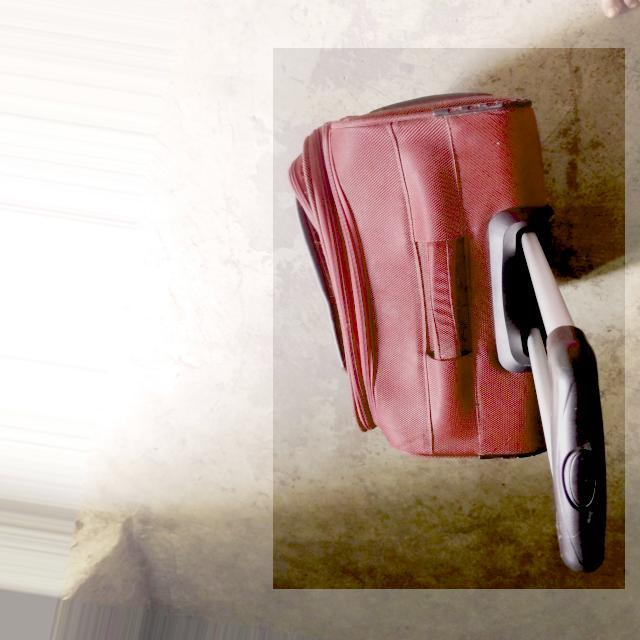Bag: (270, 48, 623, 586)
Handle: (493, 208, 625, 593)
